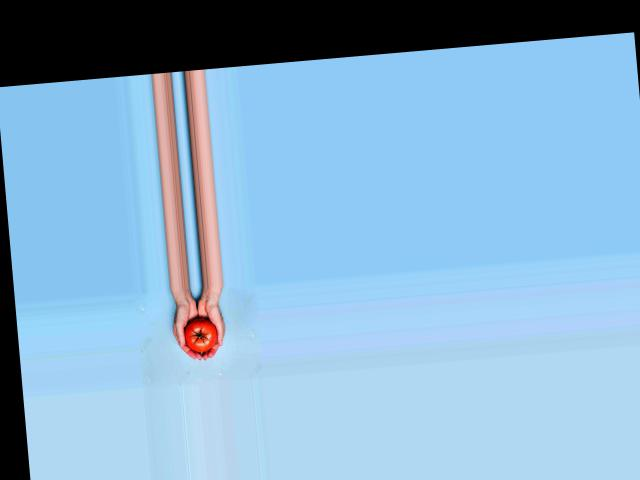tomato: (182, 316, 218, 353)
